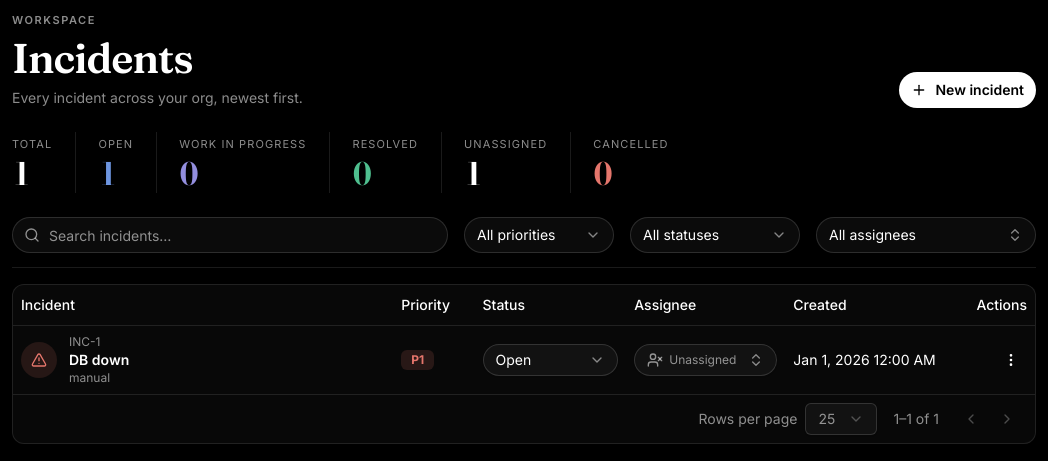
IncidentsListPage — loading/error/empty › shows a no-match empty state
Type "nonexistent-xyz" into the field with placeholder "Search incidents…" at {"x": 230, "y": 235}, box [12, 217, 448, 253]
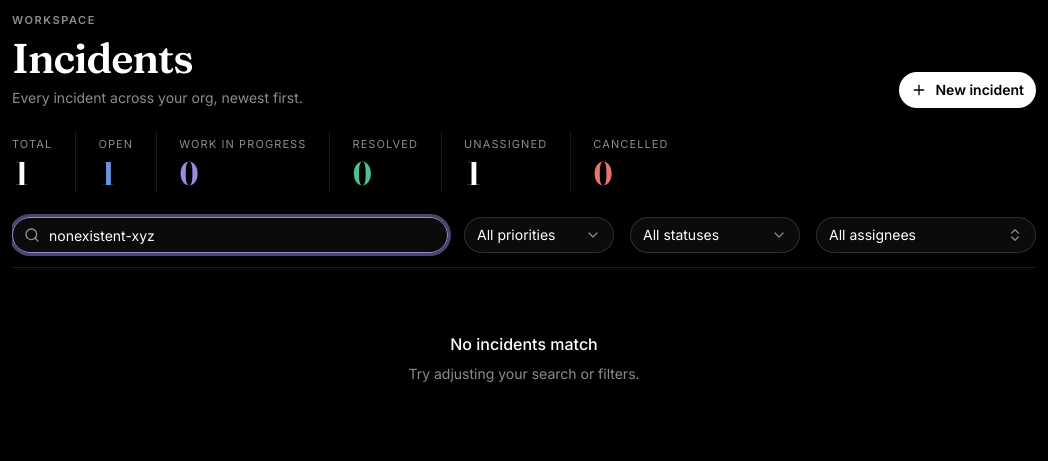
Expected: the text "No incidents match" is shown, [450, 332, 598, 356]
